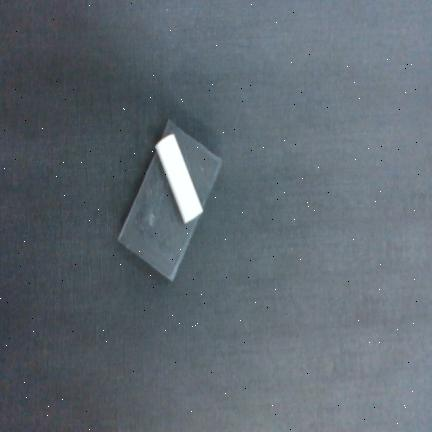Cilindro: (154, 132, 204, 225)
Paralelepipedo: (117, 118, 222, 281)
